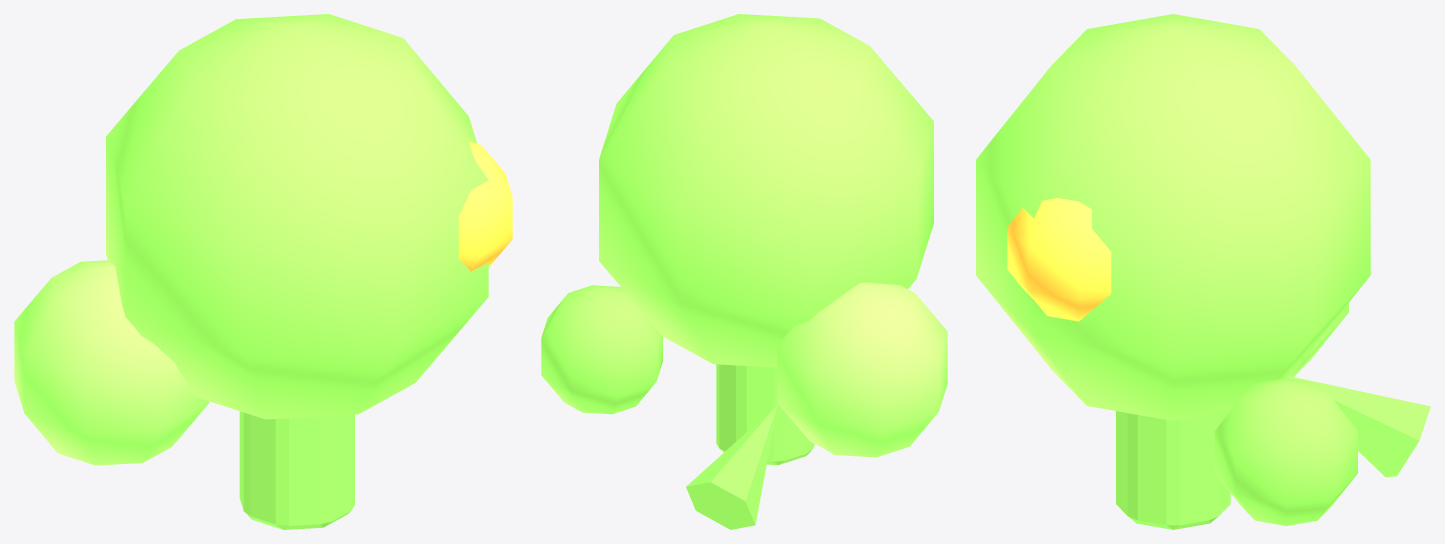
Rendered from spore_pod.glb.
3 renders of one model, left to right at view 1: azimuth 30°, elevation 25°; view 2: azimuth 150°, elevation 25°; view 3: azimuth 270°, elevation 25°, orthographic. The views are drawn at different scales.
Parts seen in each view (by area): view 1: prop.spore_pod; view 2: prop.spore_pod; view 3: prop.spore_pod.
Boxes of the visible parts, x1,y1,x2,y2 form: prop.spore_pod: (14, 14, 512, 529); prop.spore_pod: (541, 14, 947, 529); prop.spore_pod: (976, 14, 1430, 529).
Size of the model in its own units: 1.12 by 1.2 by 1.03.
